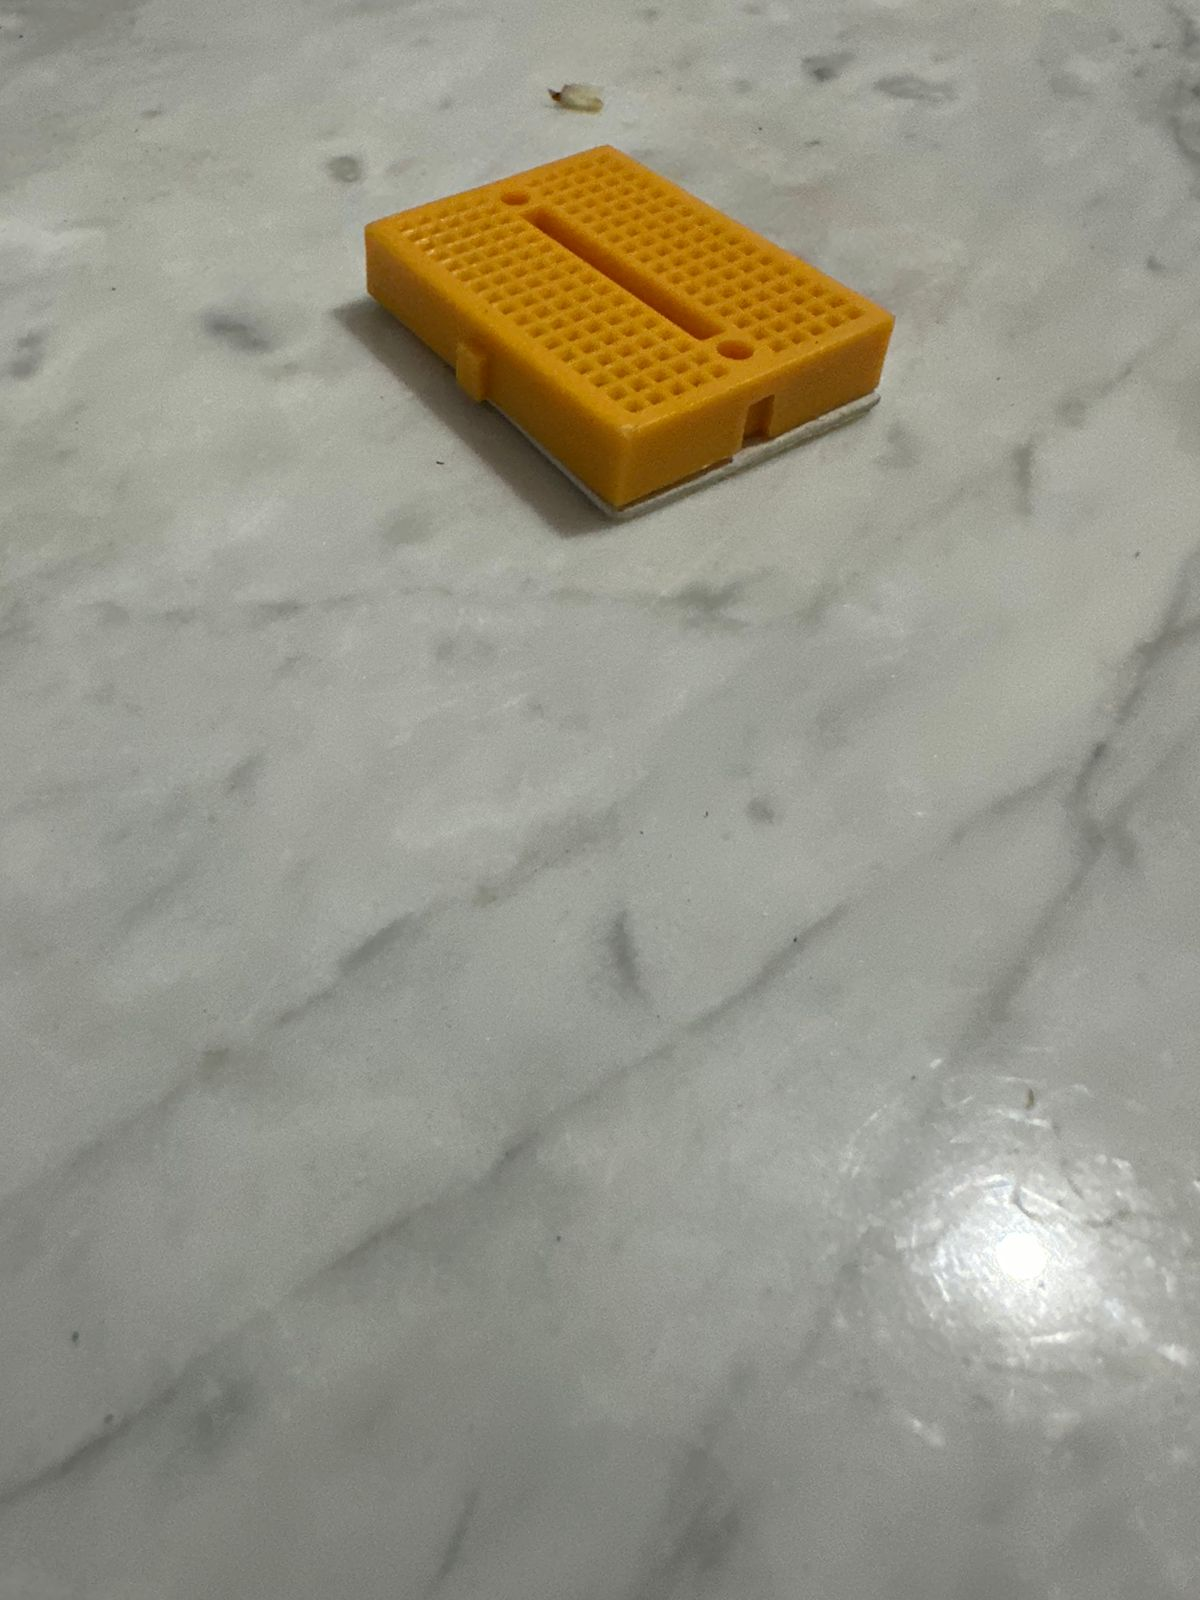breadboard: (366, 139, 895, 518)
